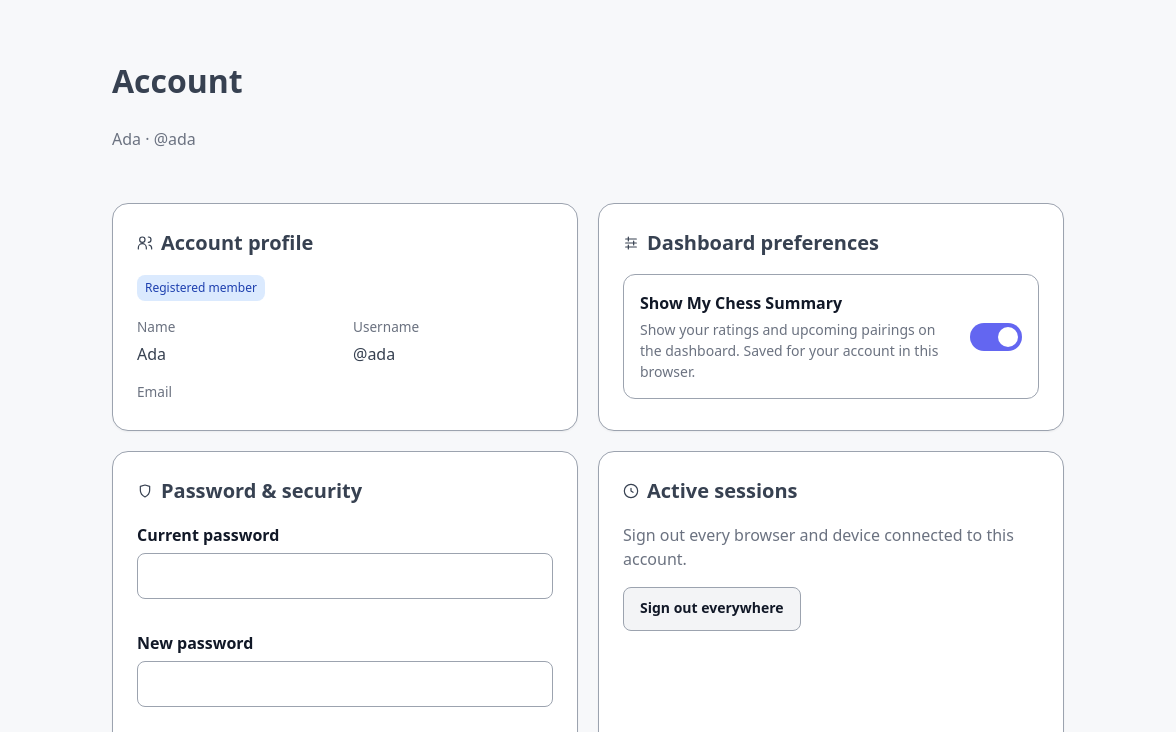
Test case: confirms that every session ended after signing out everywhere
What coordinates should you click on to do the following:
click the button "Sign out everywhere"
I would click on:
 (712, 609)
Its box is [623, 587, 801, 631].
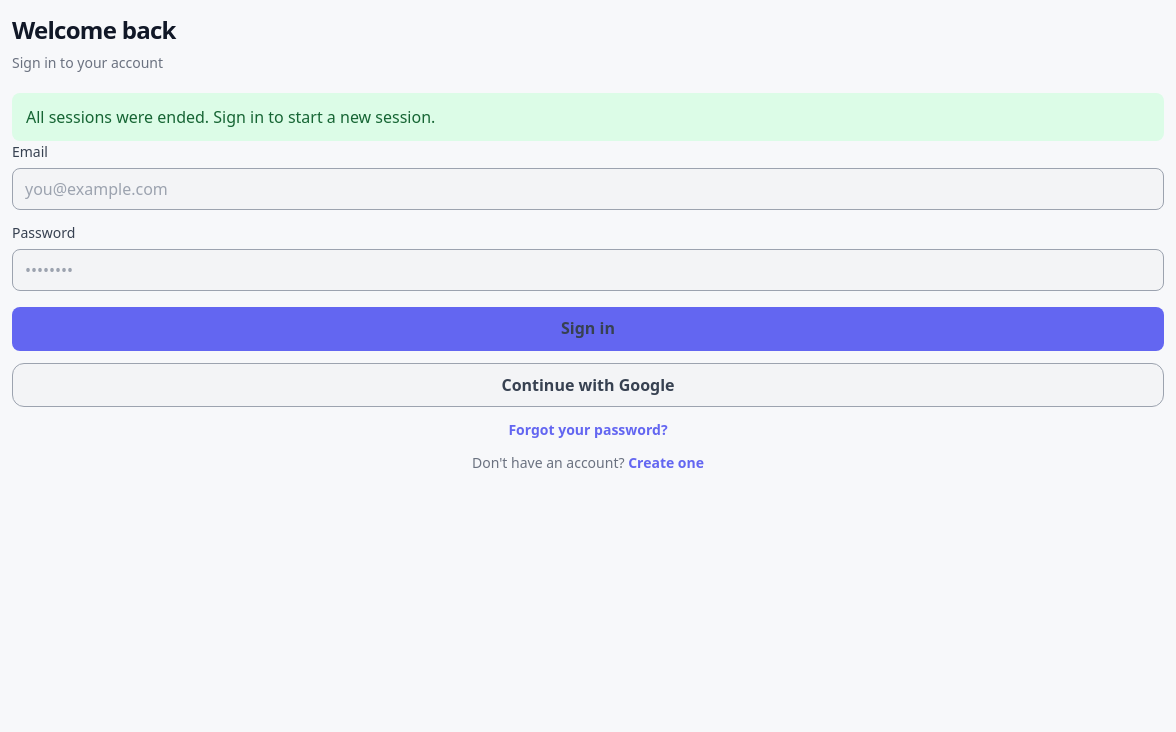
Check: the message shows "All sessions were ended.", box [26, 106, 435, 128]
